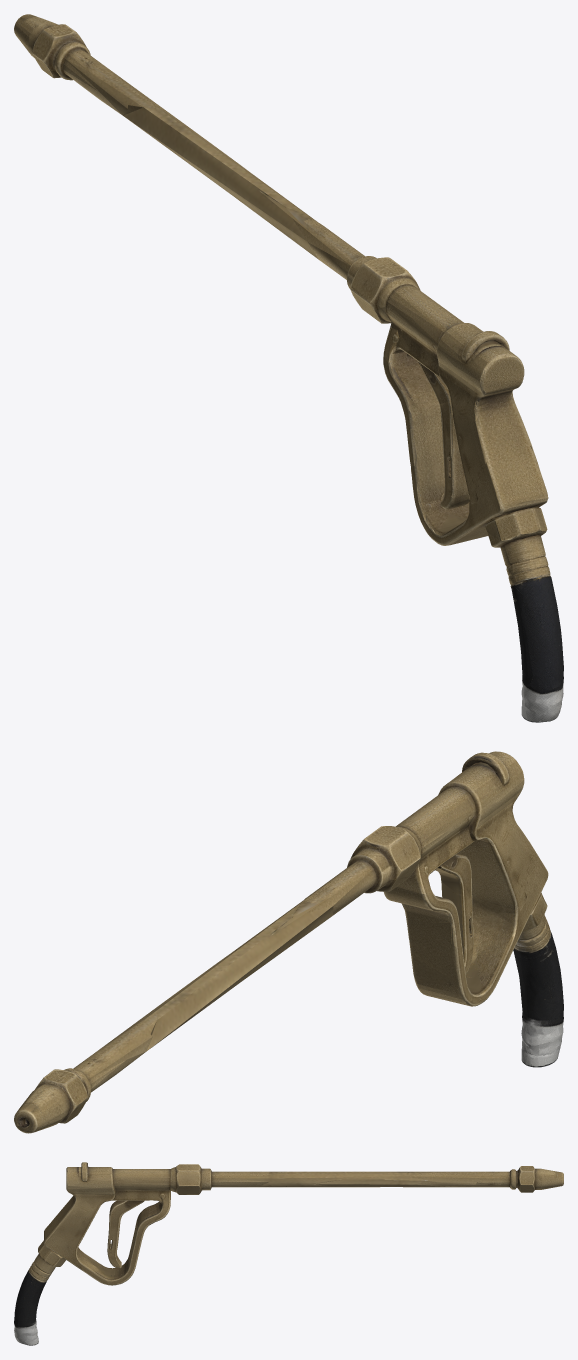
The model's file is lancia_opzione3.gltf.
The picture shows the model from 3 angles, top to bottom: view 1: azimuth 30°, elevation 25°; view 2: azimuth 150°, elevation 25°; view 3: azimuth 270°, elevation 25°; orthographic projection. The views are drawn at different scales.
Visible parts, largest first — view 1: Lancia; view 2: Lancia; view 3: Lancia.
Boxes of the visible parts, x1,y1,x2,y2 form: Lancia: [14, 14, 563, 722]; Lancia: [14, 751, 563, 1133]; Lancia: [14, 1162, 563, 1345].
Bounding box in the file's own units: 0.0371 × 0.2371 × 0.66.
1 material, 1 textured.
